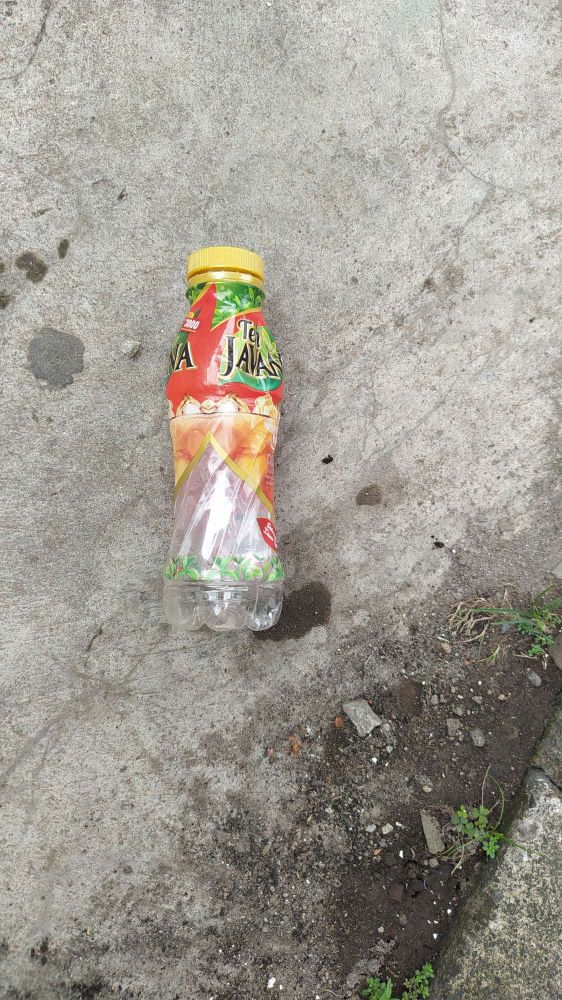botol: (137, 205, 316, 656)
